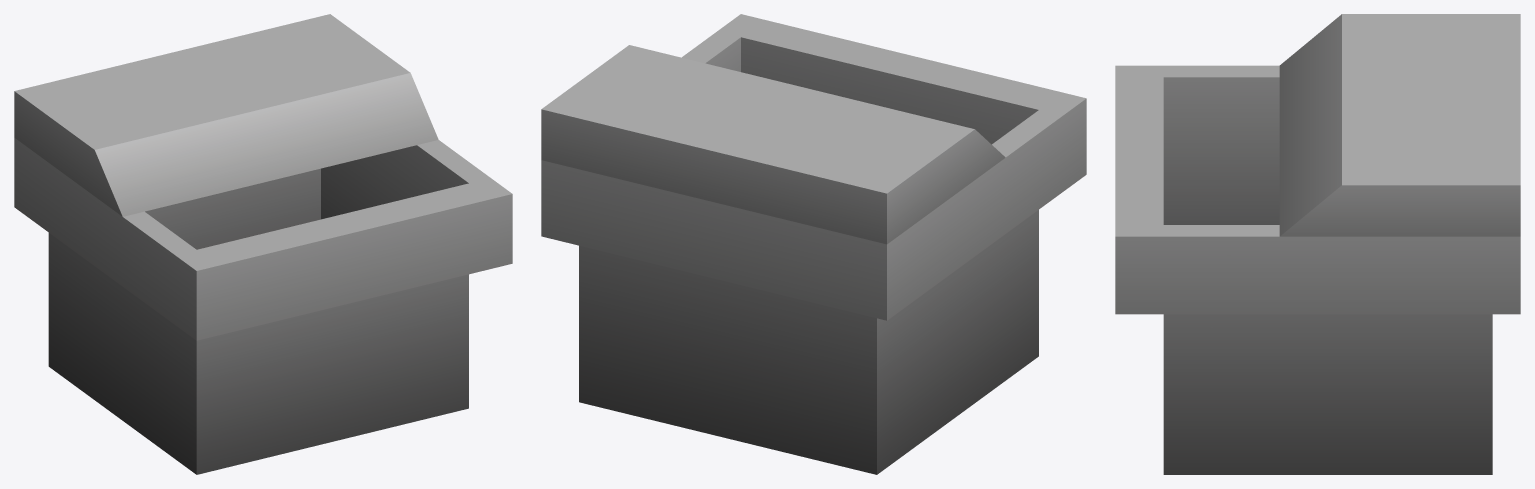
Rendered from Counter_Top_Food_Storage_01.fbx.
3 views of the same model, side by side, from view 1: azimuth 30°, elevation 25°; view 2: azimuth 150°, elevation 25°; view 3: azimuth 270°, elevation 25° (orthographic). The views are drawn at different scales.
Parts seen in each view (by area): view 1: Counter_Top_Food_Storage_01; view 2: Counter_Top_Food_Storage_01; view 3: Counter_Top_Food_Storage_01.
Boxes of the visible parts, bbox=[...] form: Counter_Top_Food_Storage_01: bbox=[14, 14, 512, 474]; Counter_Top_Food_Storage_01: bbox=[541, 14, 1086, 474]; Counter_Top_Food_Storage_01: bbox=[1115, 14, 1520, 474].
Size of the model in its own units: 100 by 82.14 by 100.
